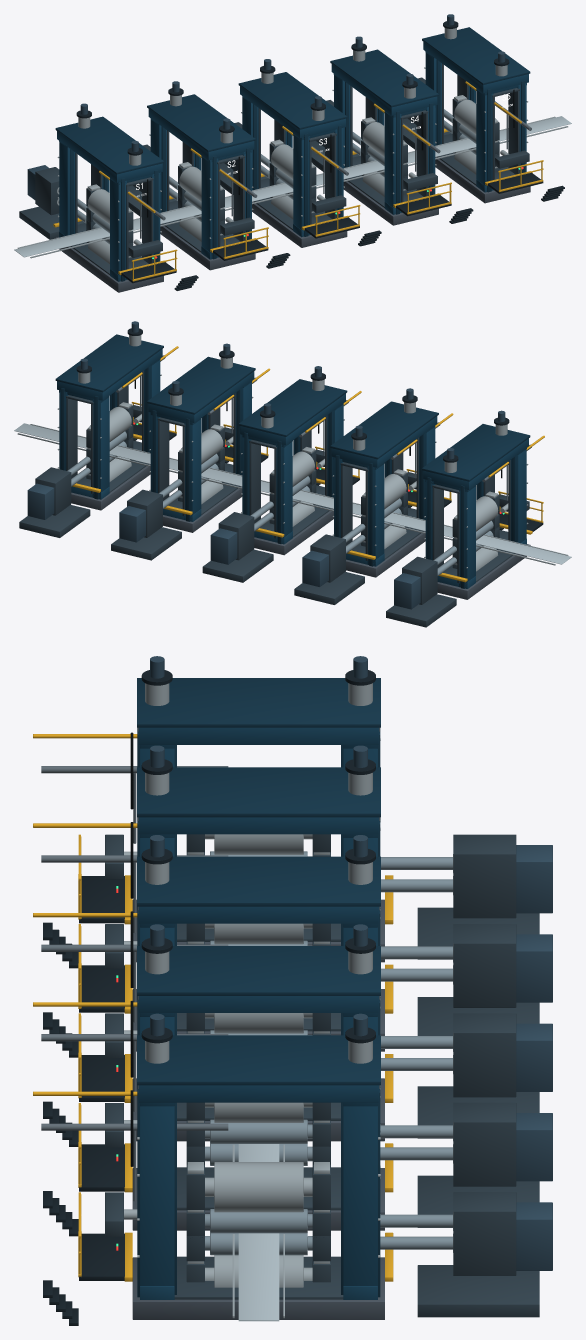
File: mill_5stand_blender_mo.glb
The picture shows the model from 3 angles, top to bottom: view 1: azimuth 30°, elevation 25°; view 2: azimuth 150°, elevation 25°; view 3: azimuth 270°, elevation 25°; orthographic projection. The views are drawn at different scales.
Parts seen in each view (by area): view 1: S4_Frame, Steel_Strip, S2_Frame, S5_Frame, S3_Frame, S1_Frame, S3_CrownCap, S4_CrownCap, S2_CrownCap, S5_CrownCap, S1_CrownCap, S1_DriveFrame (+39 smaller); view 2: S4_DriveFrame, S2_DriveFrame, S5_DriveFrame, S3_DriveFrame, S1_DriveFrame, Steel_Strip, S3_CrownCap, S4_CrownCap, S5_CrownCap, S1_CrownCap, S2_CrownCap, S1_Frame (+41 smaller); view 3: S2_CrownCap, S5_CrownCap, S3_CrownCap, S1_CrownCap, S4_CrownCap, S5_Frame, S5_DriveFrame, S5_DriveBed, S1_Gearbox, S3_Gearbox, S4_Gearbox, S2_Gearbox (+52 smaller).
Part boxes in pixels (left/top/right/bottom): S4_Frame: left=384, top=103, right=436, bottom=214; Steel_Strip: left=14, top=116, right=571, bottom=257; S2_Frame: left=201, top=147, right=253, bottom=259; S5_Frame: left=476, top=80, right=528, bottom=192; S3_Frame: left=293, top=125, right=344, bottom=237; S1_Frame: left=110, top=170, right=161, bottom=281; S3_CrownCap: left=238, top=72, right=347, bottom=129; S4_CrownCap: left=330, top=49, right=438, bottom=107; S2_CrownCap: left=147, top=94, right=255, bottom=151; S5_CrownCap: left=422, top=27, right=530, bottom=84; S1_CrownCap: left=55, top=116, right=163, bottom=174; S1_DriveFrame: left=57, top=141, right=109, bottom=237; S4_DriveFrame: left=149, top=410, right=201, bottom=521; S2_DriveFrame: left=332, top=455, right=384, bottom=566; S5_DriveFrame: left=57, top=388, right=109, bottom=499; S3_DriveFrame: left=241, top=432, right=292, bottom=544; S1_DriveFrame: left=424, top=477, right=475, bottom=588; Steel_Strip: left=14, top=423, right=571, bottom=564; S3_CrownCap: left=238, top=379, right=347, bottom=436; S4_CrownCap: left=147, top=356, right=255, bottom=414; S5_CrownCap: left=55, top=334, right=163, bottom=392; S1_CrownCap: left=422, top=424, right=530, bottom=481; S2_CrownCap: left=330, top=401, right=438, bottom=459; S1_Frame: left=476, top=448, right=528, bottom=544; S2_CrownCap: left=137, top=767, right=380, bottom=817; S5_CrownCap: left=137, top=1035, right=380, bottom=1085; S3_CrownCap: left=137, top=856, right=380, bottom=906; S1_CrownCap: left=137, top=678, right=380, bottom=727; S4_CrownCap: left=137, top=946, right=380, bottom=995; S5_Frame: left=137, top=1085, right=176, bottom=1299; S5_DriveFrame: left=341, top=1085, right=380, bottom=1299; S5_DriveBed: left=417, top=1265, right=539, bottom=1317; S1_Gearbox: left=453, top=834, right=516, bottom=918; S3_Gearbox: left=453, top=1013, right=516, bottom=1097; S4_Gearbox: left=453, top=1102, right=516, bottom=1186; S2_Gearbox: left=453, top=924, right=516, bottom=1007.
Size of the model in its own units: 31.1 by 7.68 by 12.77.
